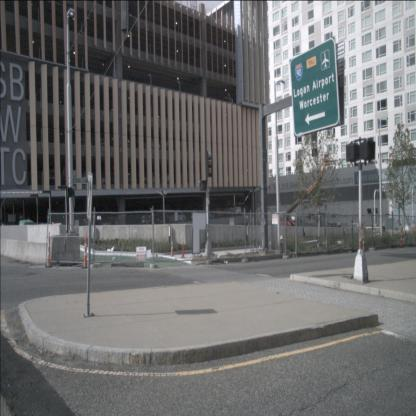barrier: (49, 236, 66, 266), (66, 235, 81, 266), (34, 242, 49, 265), (24, 241, 37, 264), (4, 238, 17, 260), (14, 241, 26, 263), (0, 238, 7, 257)
cone: (46, 232, 53, 268), (82, 233, 88, 269), (361, 228, 366, 252), (181, 241, 185, 259), (170, 240, 174, 256), (400, 226, 402, 248)
